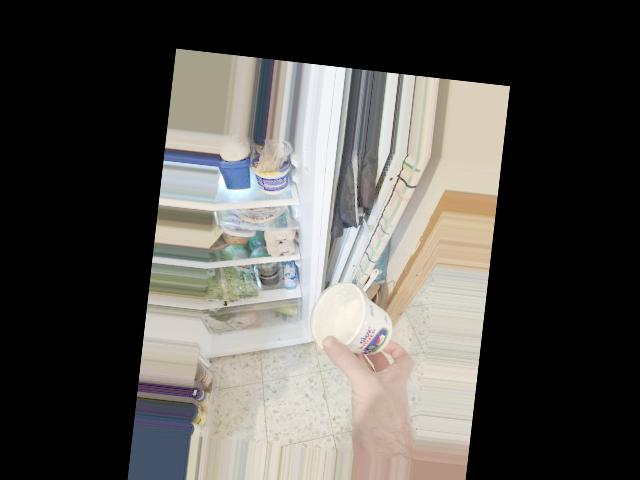cotage: (304, 282, 392, 368)
